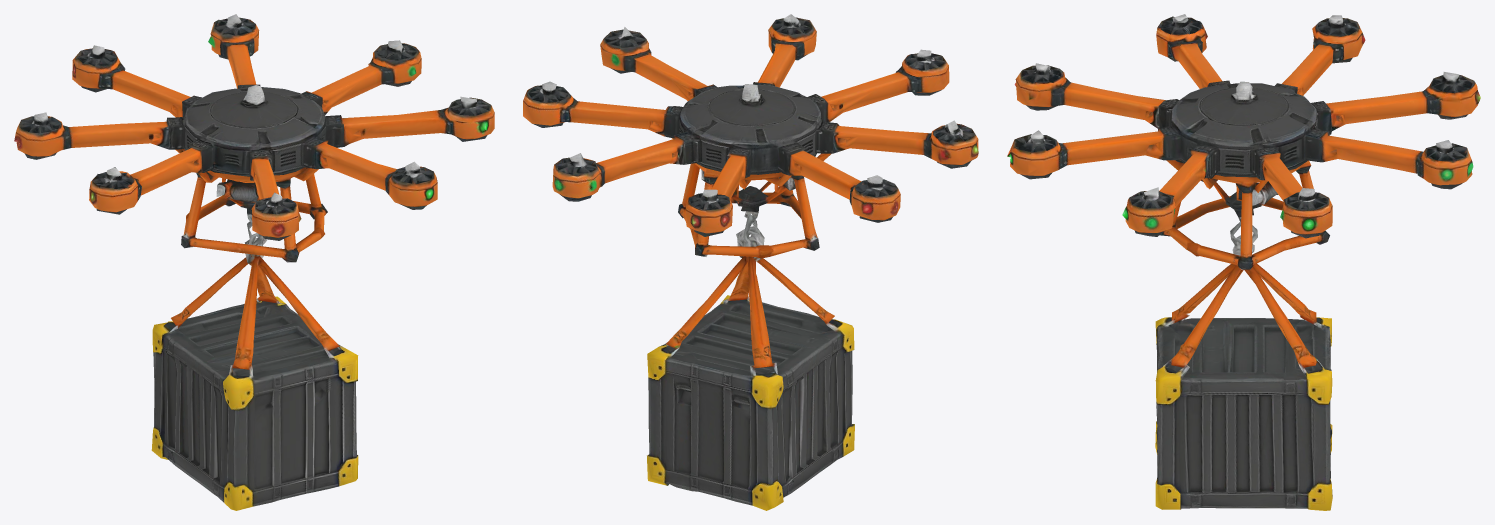
Rendered from traffic-cargo.glb.
3 views of the same model, side by side, from view 1: azimuth 30°, elevation 25°; view 2: azimuth 150°, elevation 25°; view 3: azimuth 270°, elevation 25° (orthographic). The views are drawn at different scales.
Parts seen in each view (by area): view 1: traffic-cargo; view 2: traffic-cargo; view 3: traffic-cargo.
Part boxes in pixels (<box>): traffic-cargo: <box>14,14,494,510</box>; traffic-cargo: <box>523,14,978,510</box>; traffic-cargo: <box>1007,14,1480,510</box>.
Size of the model in its own units: 3 by 2.81 by 3.04.
Materials: 1 (1 with a texture image).
